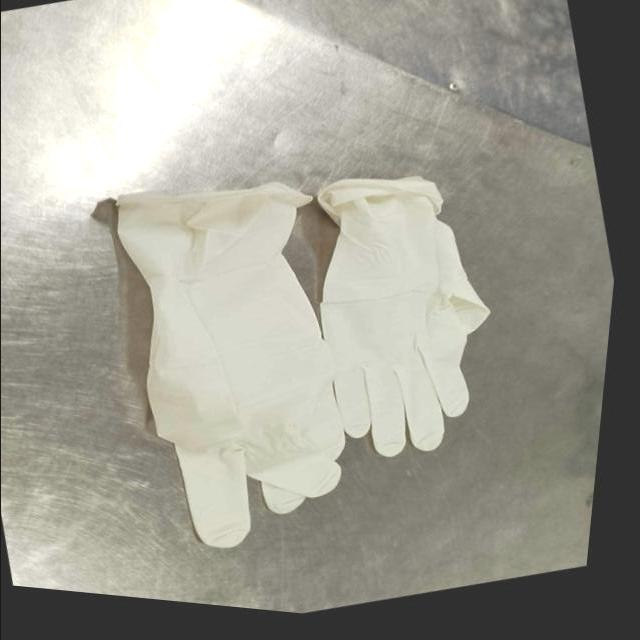General: (3, 1, 615, 617), (113, 173, 492, 549)
Infectious: (315, 175, 491, 457)
Sharps: (447, 81, 461, 92)
